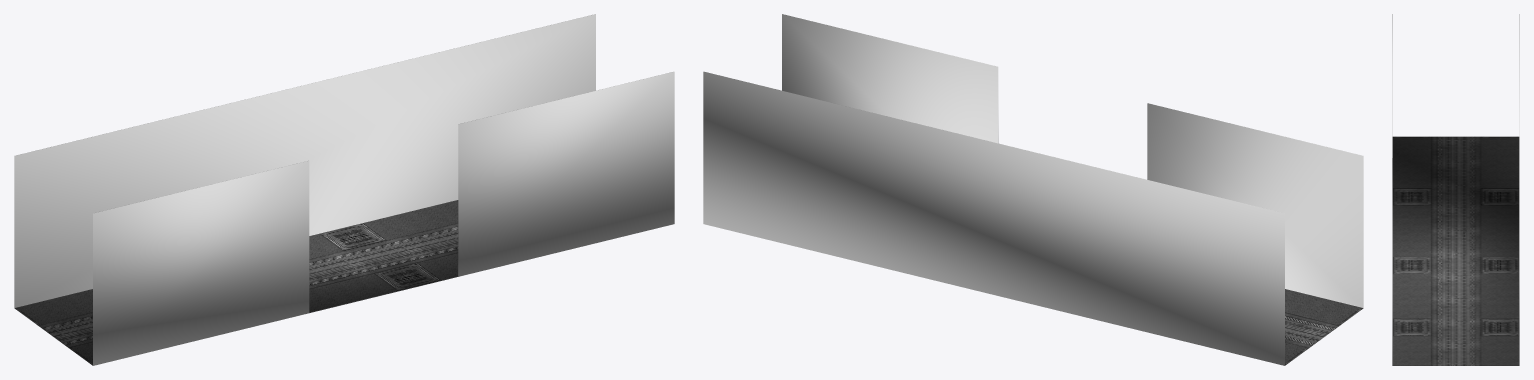
The model's file is corridor_c-7.fbx.
The picture shows the model from 3 angles, left to right: view 1: azimuth 30°, elevation 25°; view 2: azimuth 150°, elevation 25°; view 3: azimuth 270°, elevation 25°; orthographic projection. The views are drawn at different scales.
Parts seen in each view (by area): view 1: corridor C-7; view 2: corridor C-7; view 3: corridor C-7.
Part boxes in pixels (box(x1,y1,x2,y2)): corridor C-7: box(14, 14, 674, 365); corridor C-7: box(703, 14, 1363, 365); corridor C-7: box(1392, 14, 1519, 365).
Size of the model in its own units: 1443 by 361 by 339.
